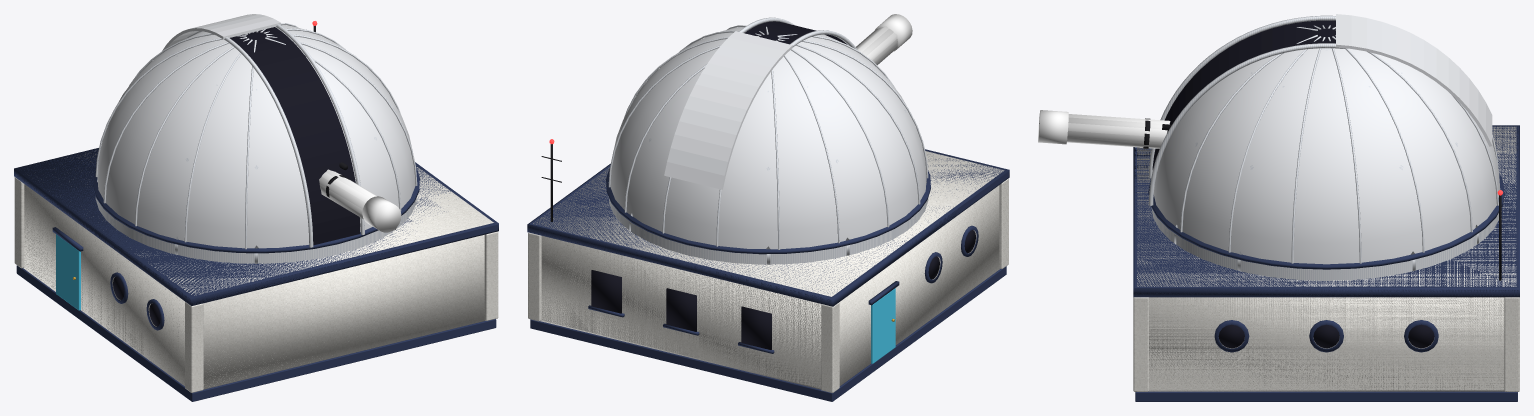
Rendered from p_observatory.glb.
3 views of the same model, side by side, from view 1: azimuth 30°, elevation 25°; view 2: azimuth 150°, elevation 25°; view 3: azimuth 270°, elevation 25° (orthographic). The views are drawn at different scales.
Parts seen in each view (by area): view 1: lod1_mesh, dome, trim, dark, plaster, scope, door; view 2: dome, lod1_mesh, plaster, trim, dark, door, scope; view 3: dome, lod1_mesh, plaster, trim, dark, scope, black.
Boxes of the visible parts, bbox=[...] form: lod1_mesh: bbox=[14, 27, 498, 389]; dome: bbox=[95, 14, 417, 249]; trim: bbox=[14, 149, 497, 401]; dark: bbox=[113, 27, 360, 326]; plaster: bbox=[14, 177, 498, 392]; scope: bbox=[319, 171, 401, 232]; door: bbox=[56, 234, 80, 310]; dome: bbox=[608, 17, 928, 249]; lod1_mesh: bbox=[527, 26, 1009, 389]; plaster: bbox=[528, 178, 1008, 392]; trim: bbox=[528, 165, 1008, 401]; dark: bbox=[591, 21, 975, 349]; door: bbox=[871, 288, 895, 363]; scope: bbox=[857, 14, 912, 64]; dome: bbox=[1148, 14, 1500, 264]; lod1_mesh: bbox=[1067, 48, 1519, 391]; plaster: bbox=[1133, 297, 1519, 391]; trim: bbox=[1134, 125, 1518, 401]; dark: bbox=[1152, 20, 1434, 348]; scope: bbox=[1038, 110, 1169, 148]; black: bbox=[1143, 118, 1501, 280].
Size of the model in its own units: 12.28 by 10.2 by 15.26.
11 materials, 2 textured.
